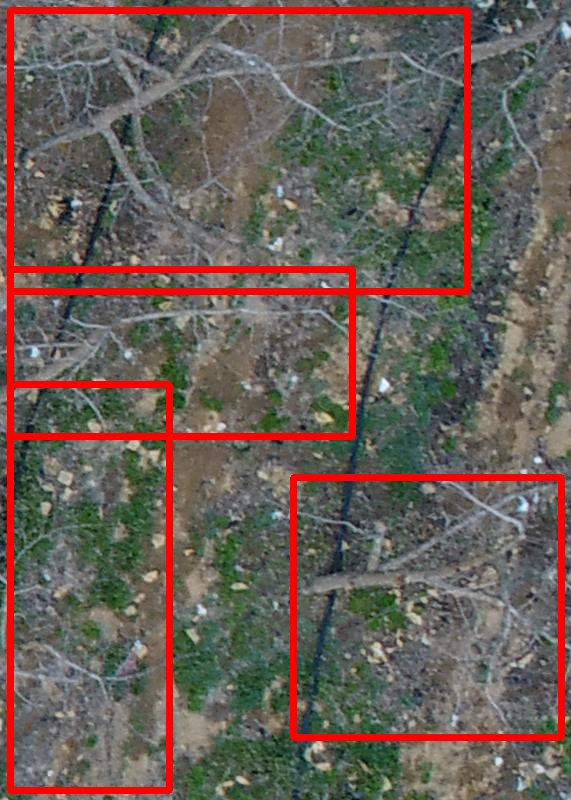apple: (10, 10, 467, 291), (293, 477, 561, 737), (10, 384, 169, 790), (10, 269, 352, 436)
